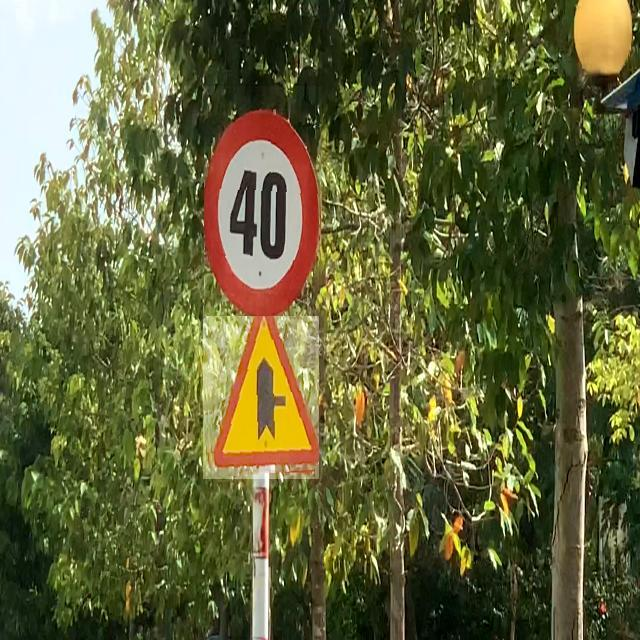P-127: (204, 86, 322, 316)
W-207b: (203, 306, 319, 480)
